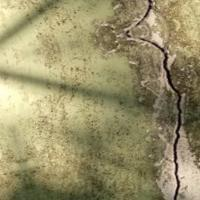crack: (121, 0, 199, 199)
